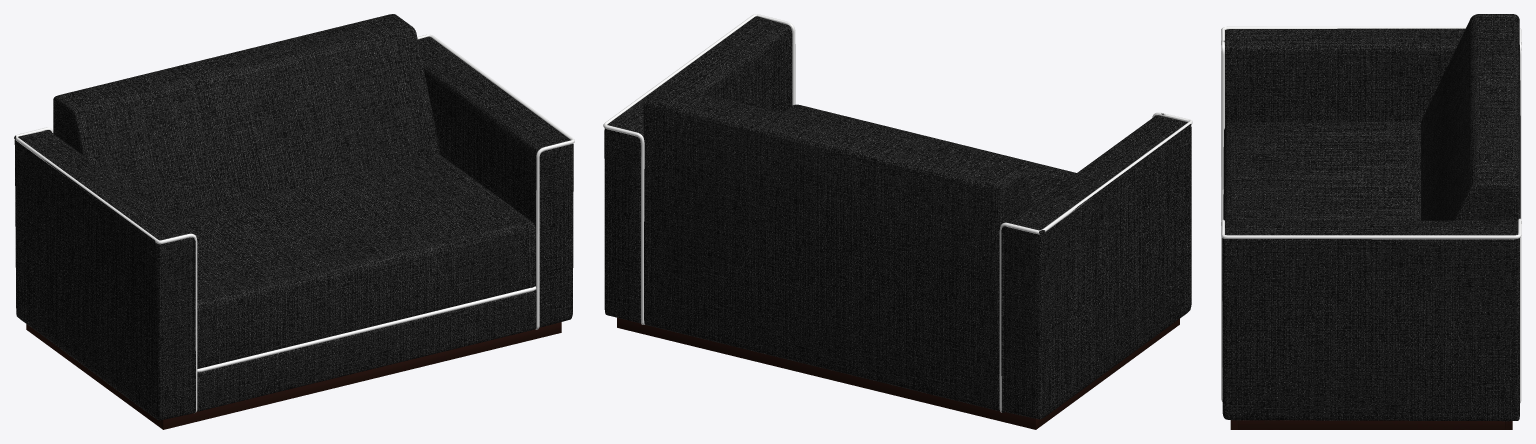
The picture shows the model from 3 angles, left to right: view 1: azimuth 30°, elevation 25°; view 2: azimuth 150°, elevation 25°; view 3: azimuth 270°, elevation 25°; orthographic projection. The views are drawn at different scales.
Parts seen in each view (by area): view 1: C-skp3230; view 2: C-skp3230; view 3: C-skp3230.
Part boxes in pixels (box(x1,y1,x2,y2)): C-skp3230: box(14, 14, 574, 429); C-skp3230: box(603, 14, 1192, 429); C-skp3230: box(1221, 14, 1521, 429).
Size of the model in its own units: 1.35 by 0.6925 by 0.813.
3 materials, 2 textured.
